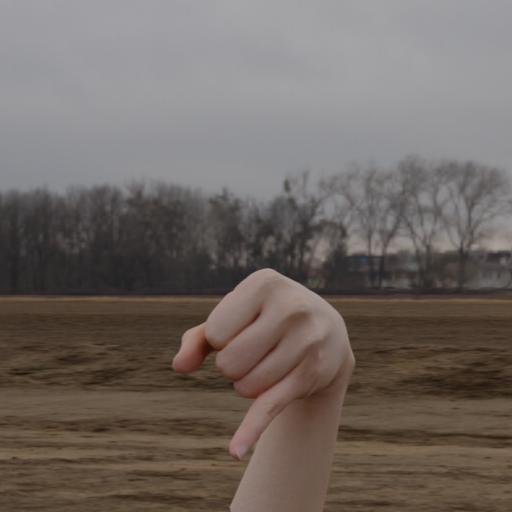J: (173, 264, 361, 467)
